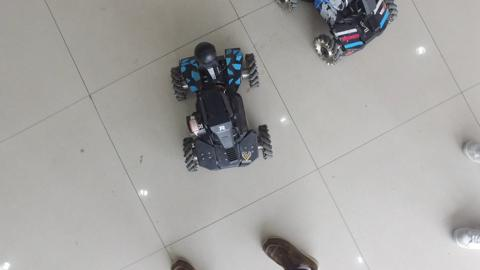chariot: (172, 40, 274, 177), (272, 1, 404, 71)
